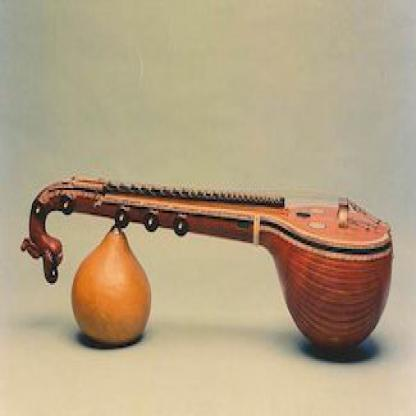Veena: (16, 165, 399, 271)
